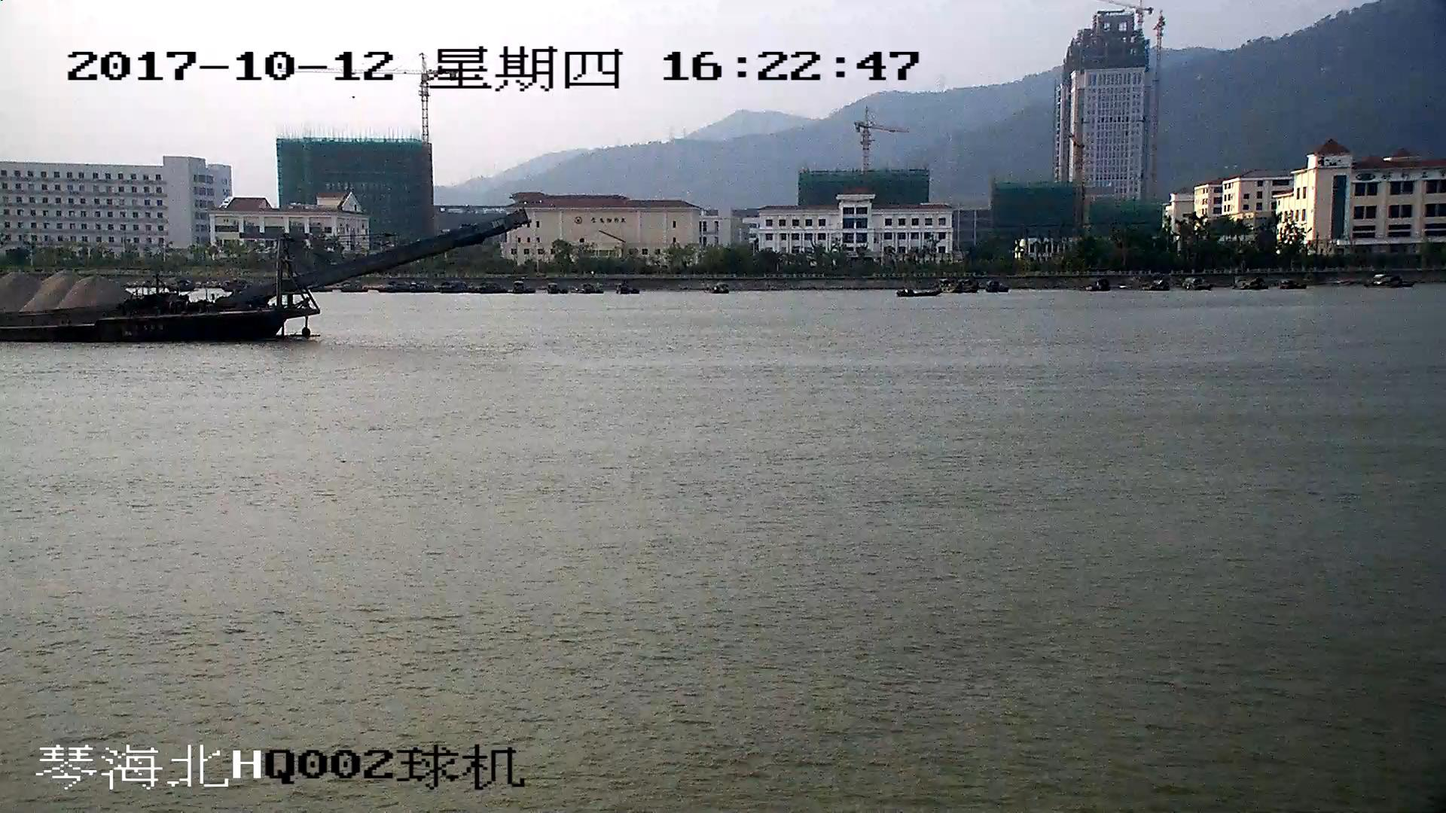ore carrier: (0, 209, 520, 342)
